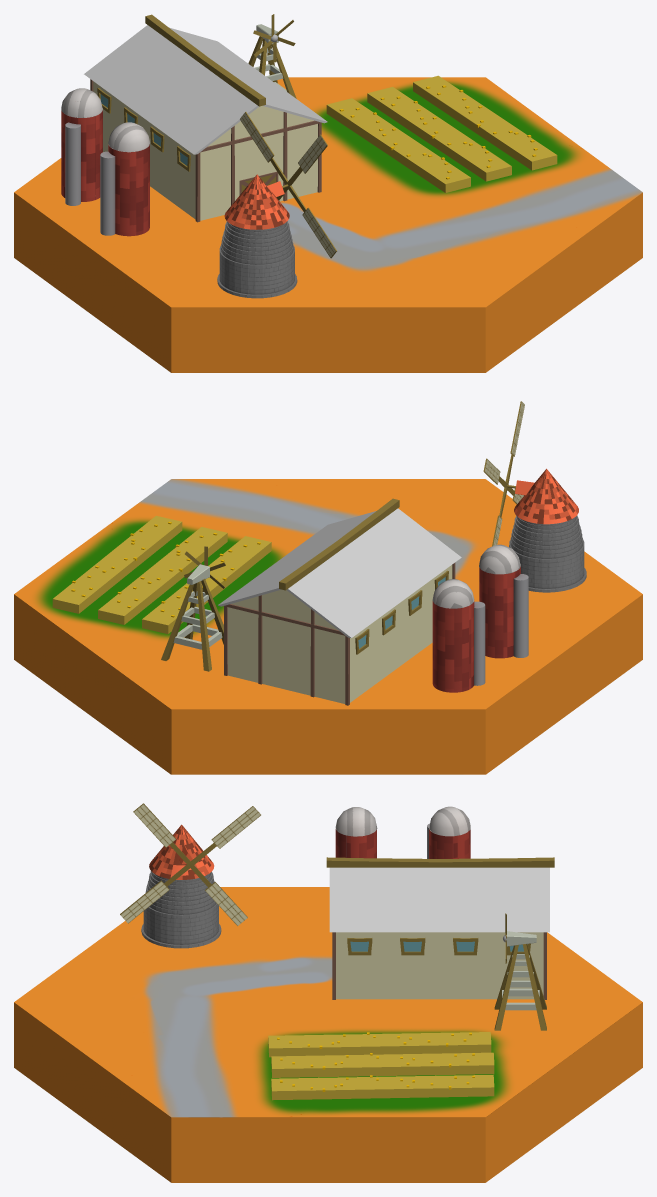
File: Tuile_Champ_Village_N4.fbx
3 renders of one model, top to bottom at view 1: azimuth 30°, elevation 25°; view 2: azimuth 150°, elevation 25°; view 3: azimuth 270°, elevation 25°, orthographic.
Visible parts, largest first — view 1: Circle, poutre toit.001, Cube.003, nIV2.001, Cylinder.003, Cylinder.001, Cylinder.002, Cone.001, Cube.002, Sphere; view 2: Circle, poutre toit.001, Cube.003, nIV2.001, Cylinder.002, Cylinder.003, Cylinder.001, Sphere, Cone.001, Cube.002; view 3: Circle, poutre toit.001, nIV2.001, Cube.003, Cylinder.001, Cube.002, Sphere, Cylinder.002, Cylinder.003, Cone.001.
Boxes of the visible parts, x1,y1,x2,y2 form: Circle: (14,77,642,372); poutre toit.001: (90,14,321,222); Cube.003: (84,25,327,154); nIV2.001: (326,75,557,192); Cylinder.003: (100,122,149,236); Cylinder.001: (217,221,297,298); Cylinder.002: (61,88,102,205); Cone.001: (224,174,289,229); Cube.002: (240,112,336,258); Sphere: (248,14,296,98); Circle: (14,479,642,774); poutre toit.001: (224,498,455,705); Cube.003: (218,508,461,637); nIV2.001: (52,515,271,633); Cylinder.002: (432,579,485,692); Cylinder.003: (479,544,528,658); Cylinder.001: (509,515,586,592); Sphere: (161,546,225,671); Cone.001: (514,468,578,524); Cube.002: (483,401,524,546); Circle: (14,887,642,1182); poutre toit.001: (326,857,554,999); nIV2.001: (268,1032,494,1100); Cube.003: (329,867,549,932); Cylinder.001: (141,871,221,948); Cube.002: (120,803,260,925); Sphere: (494,913,546,1030); Cylinder.002: (427,806,470,858); Cylinder.003: (335,807,377,858); Cone.001: (149,824,214,879).
Bounding box in the file's own units: 107 × 46.73 × 124.
